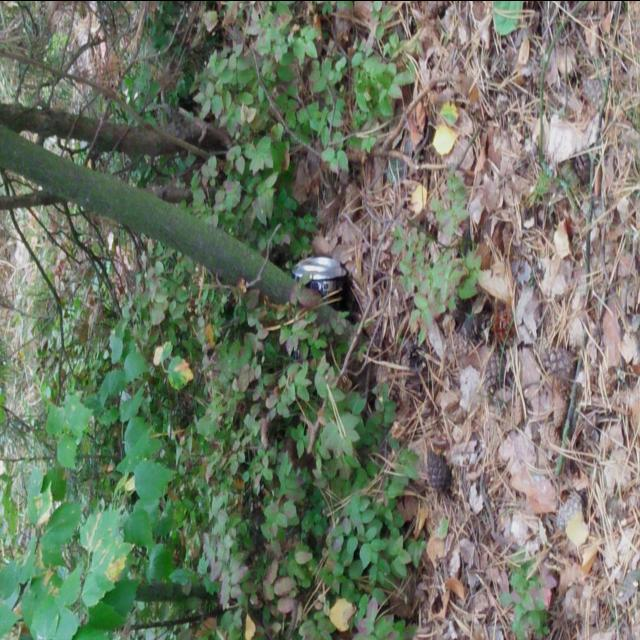Drink can: (292, 254, 349, 315)
